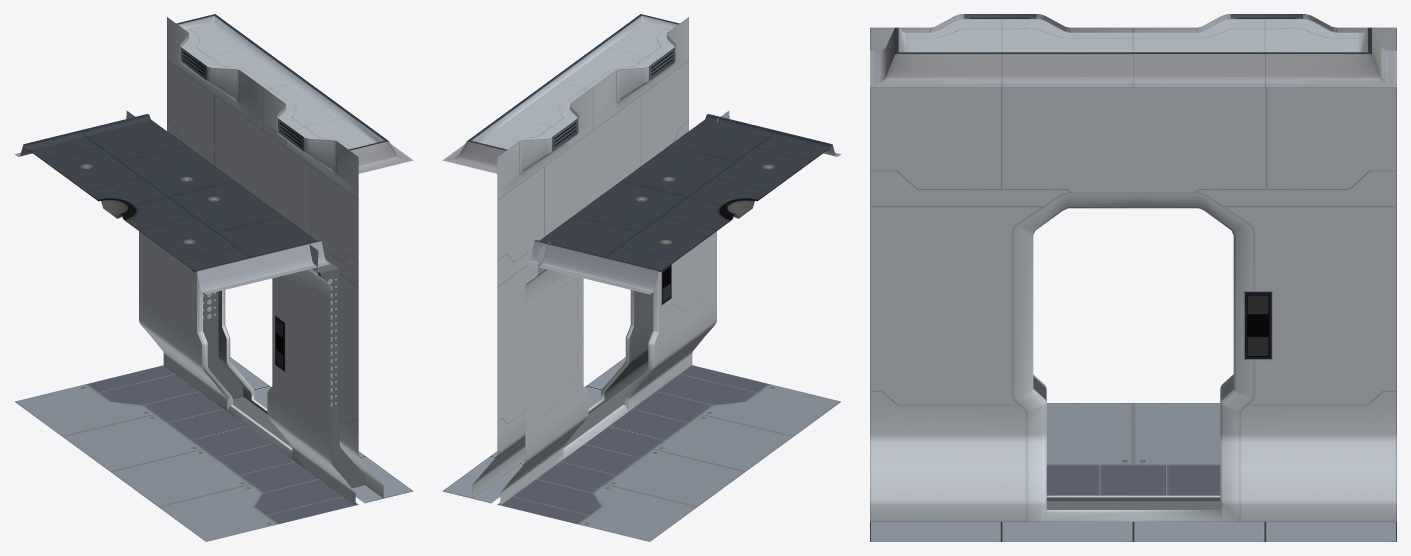
File: Room_A_4m_doorway_wall.fbx
The picture shows the model from 3 angles, left to right: view 1: azimuth 30°, elevation 25°; view 2: azimuth 150°, elevation 25°; view 3: azimuth 270°, elevation 25°; orthographic projection. The views are drawn at different scales.
Visible parts, largest first — view 1: Room_A_4m_doorway_wall; view 2: Room_A_4m_doorway_wall; view 3: Room_A_4m_doorway_wall.
Boxes of the visible parts, left/top/right/bottom form: Room_A_4m_doorway_wall: left=14, top=14, right=413, bottom=541; Room_A_4m_doorway_wall: left=442, top=14, right=841, bottom=541; Room_A_4m_doorway_wall: left=870, top=14, right=1396, bottom=541.
Size of the model in its own units: 250 by 400 by 400.
Materials: 9 (9 with a texture image).
